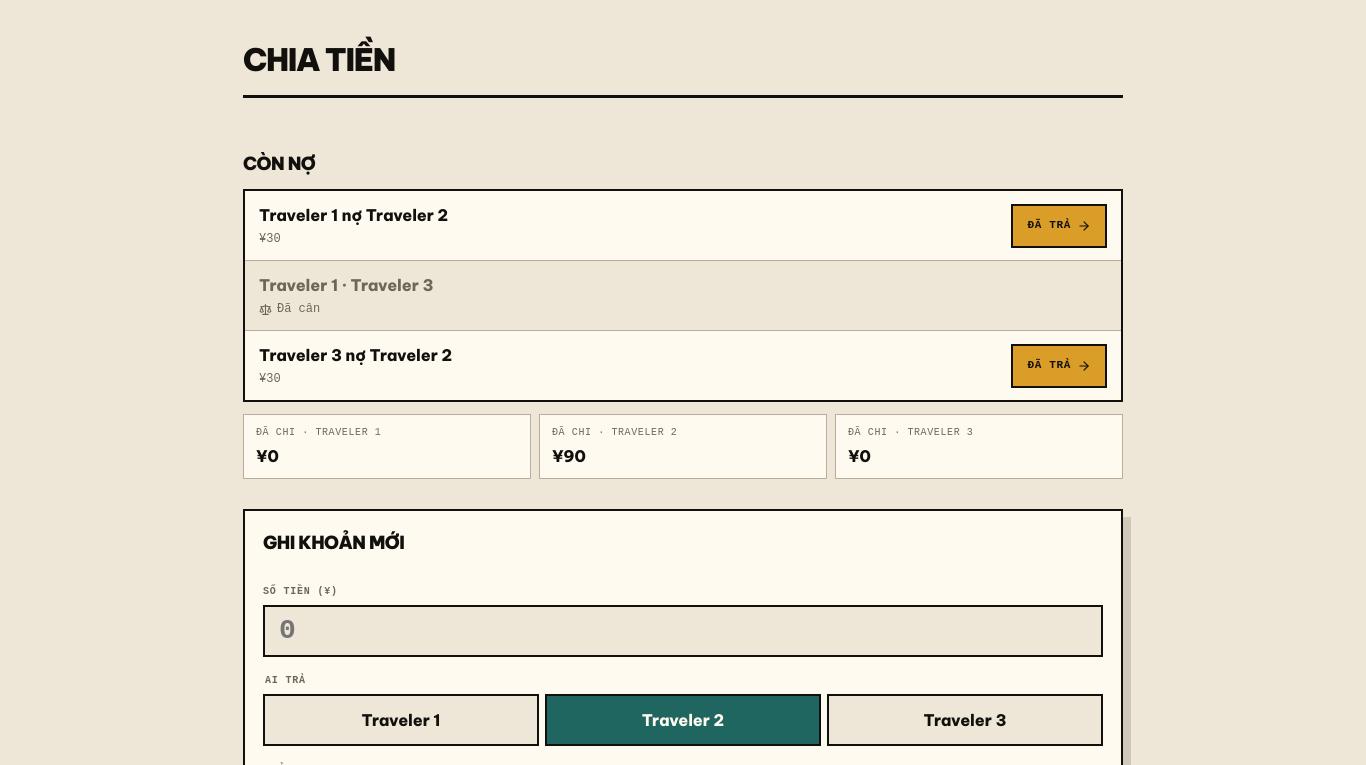
ExpenseBoard › asks before recording a settlement
Click the button "Đã trả" in the row of "Traveler 1 nợ Traveler 2".
click(1059, 226)  # box [1011,204,1107,248]
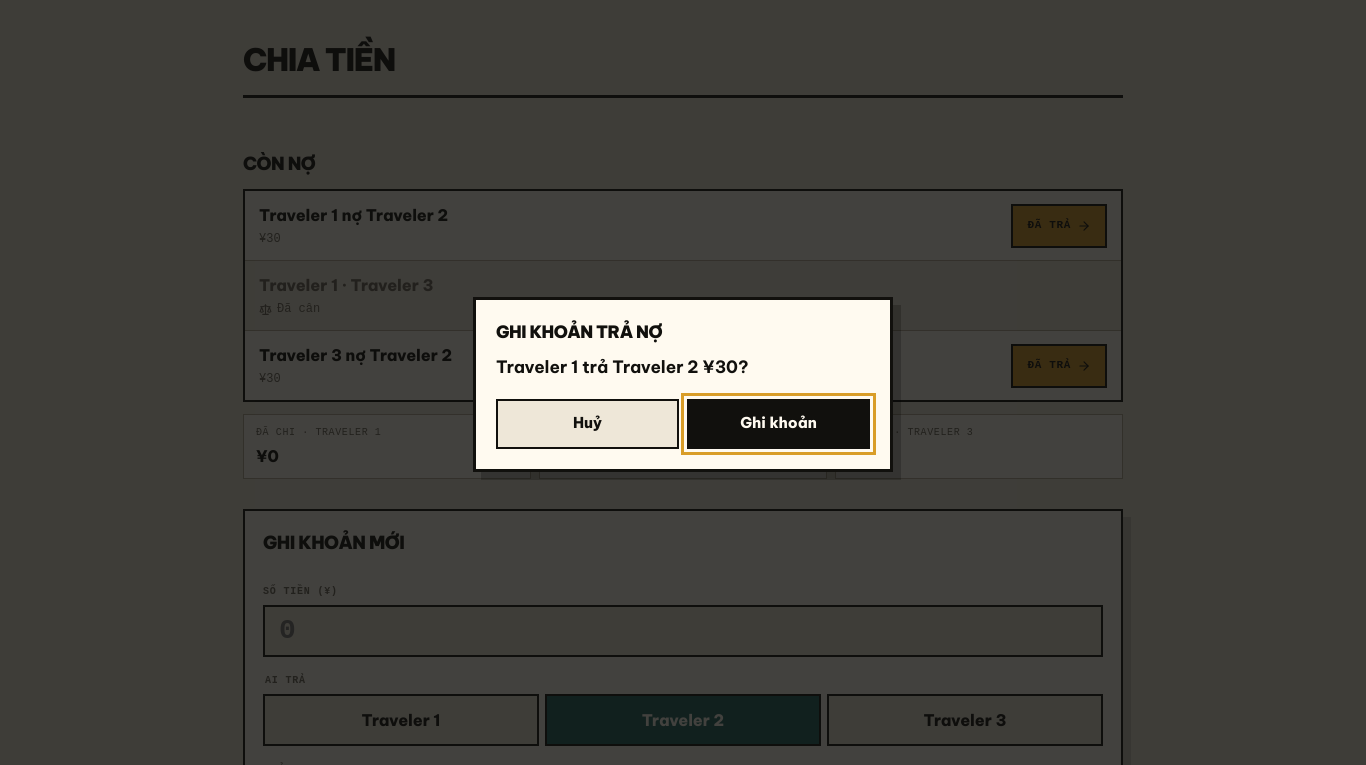
Expected: the text "Traveler 1 trả Traveler 2 ¥30?" is shown, [496,356,749,378]
Click the button "Ghi khoản".
click(778, 424)  # box [687,398,870,448]
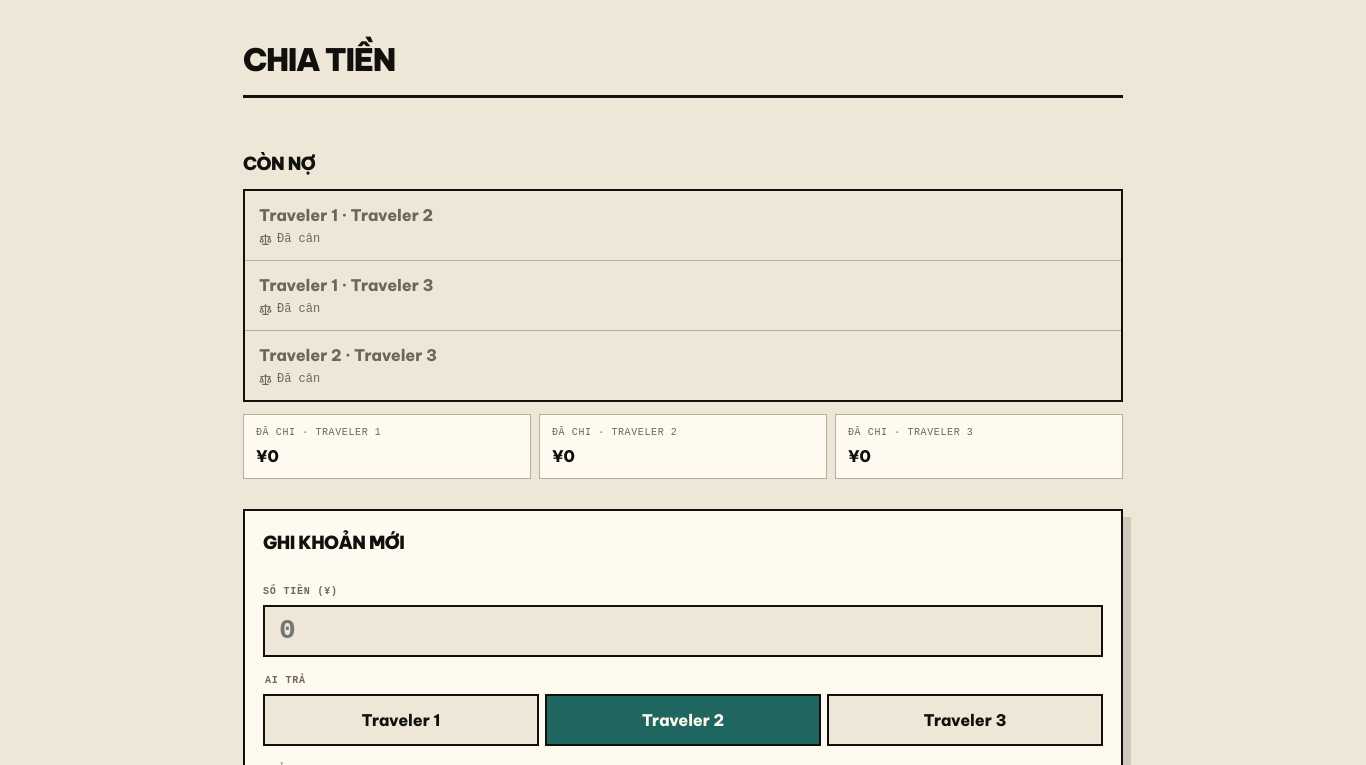
Expected: the dialog is gone
